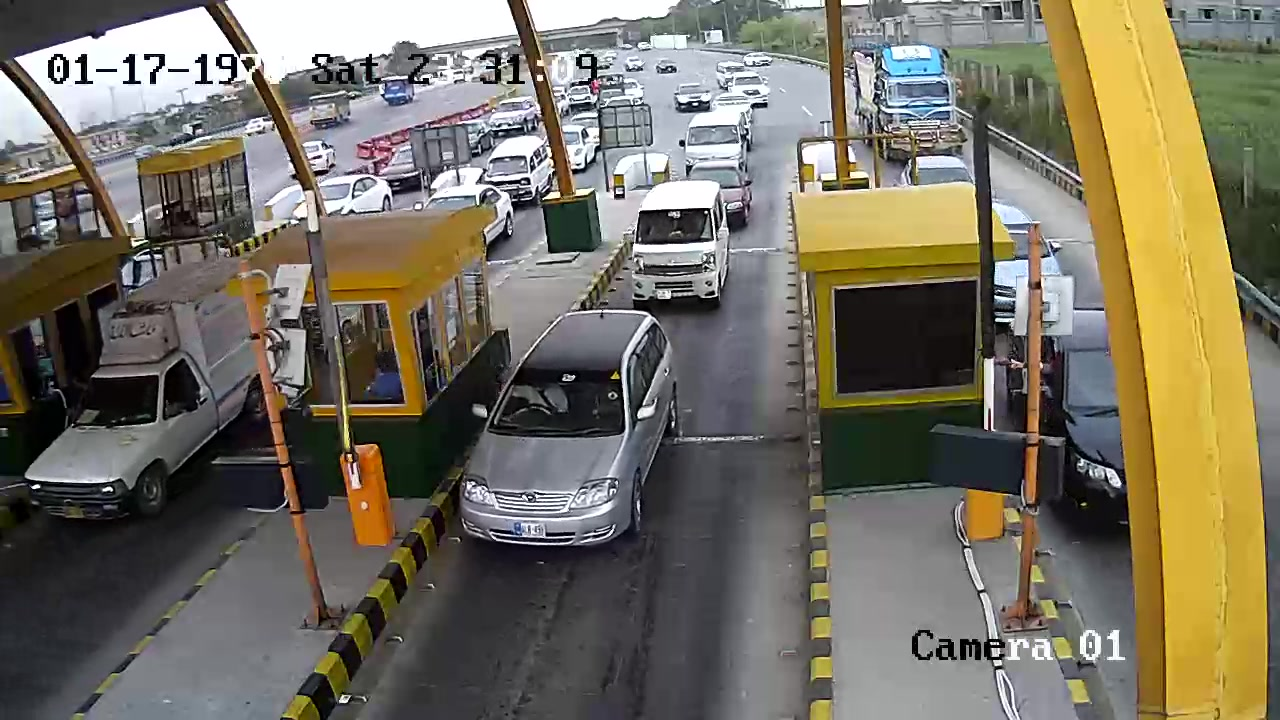F1: (459, 306, 693, 556)
